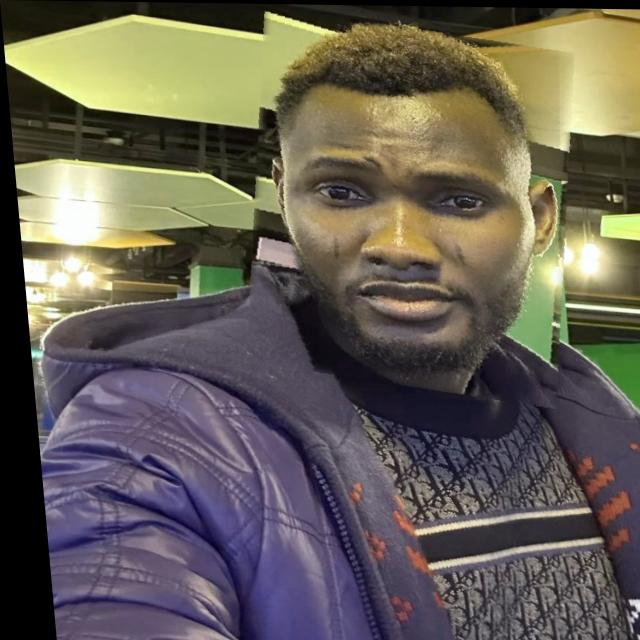sad: (227, 15, 586, 398)
